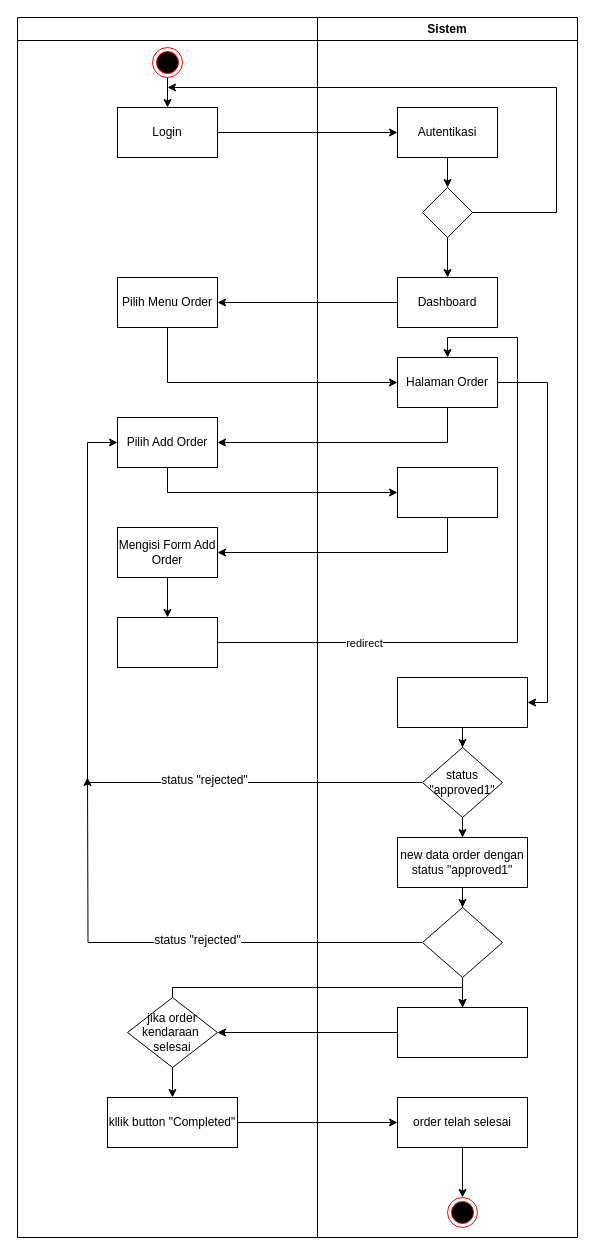
The diagram is 595 pixels wide and 1255 high, and some of its shapes have lost their labels. The box of each missing label's shape, as (x1, y1, x2, y2) in pixels:
Admin: (16, 16, 318, 1238)
Menampilkan Form Add Order: (396, 466, 498, 518)
Menampilkan new data order dengan status "pending": (396, 676, 528, 728)
new data order dengan status "approved2": (396, 1006, 528, 1058)
status "approved2": (422, 906, 502, 978)
Submit: (116, 616, 218, 668)
